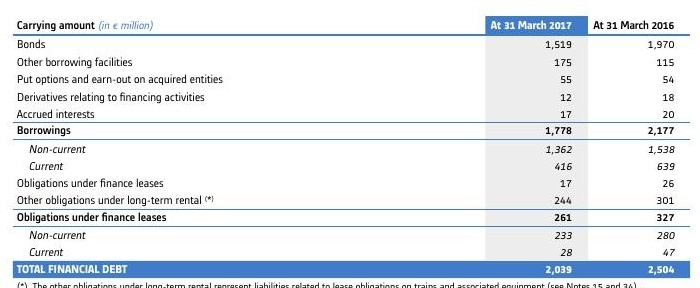table: (0, 0, 700, 288)
